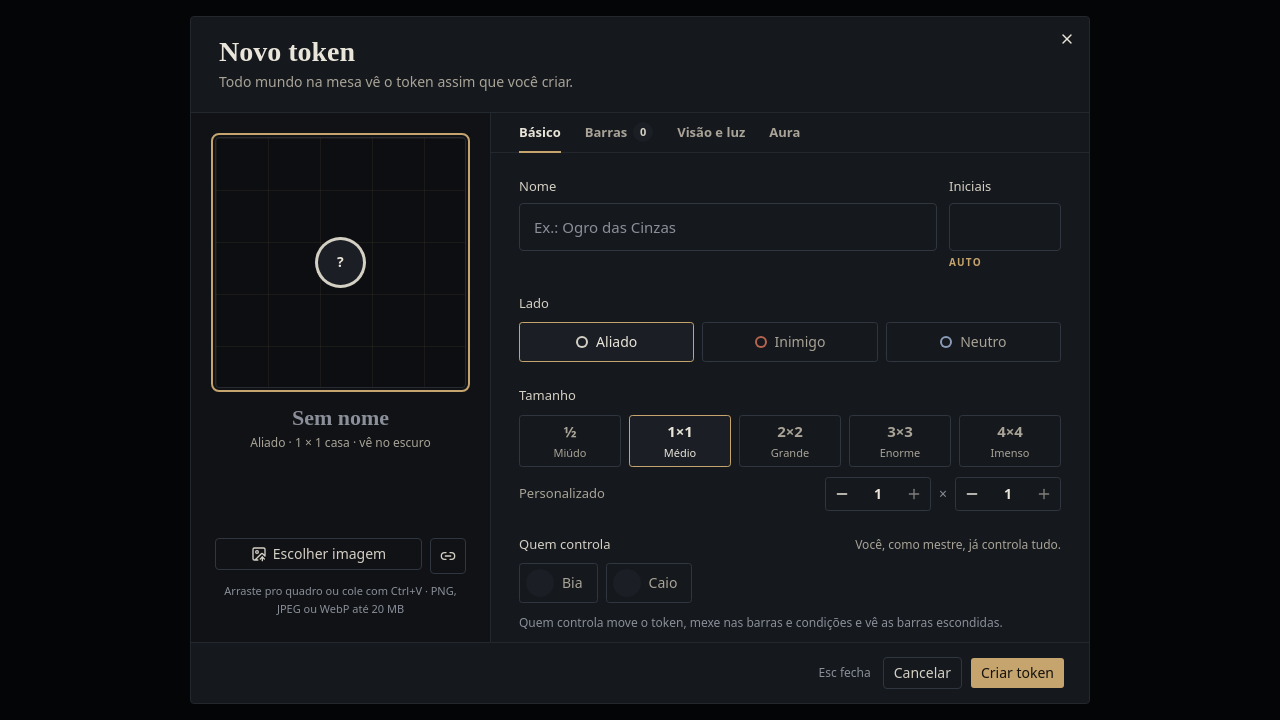
TokenDialog, the shell › going to another tab and back keeps what was typed
The width and height of the screenshot is (1280, 720).
Type "Kael" into the field labelled "Nome".
click(728, 227); type("Kael")  # box x1=519 y1=203 x2=937 y2=251
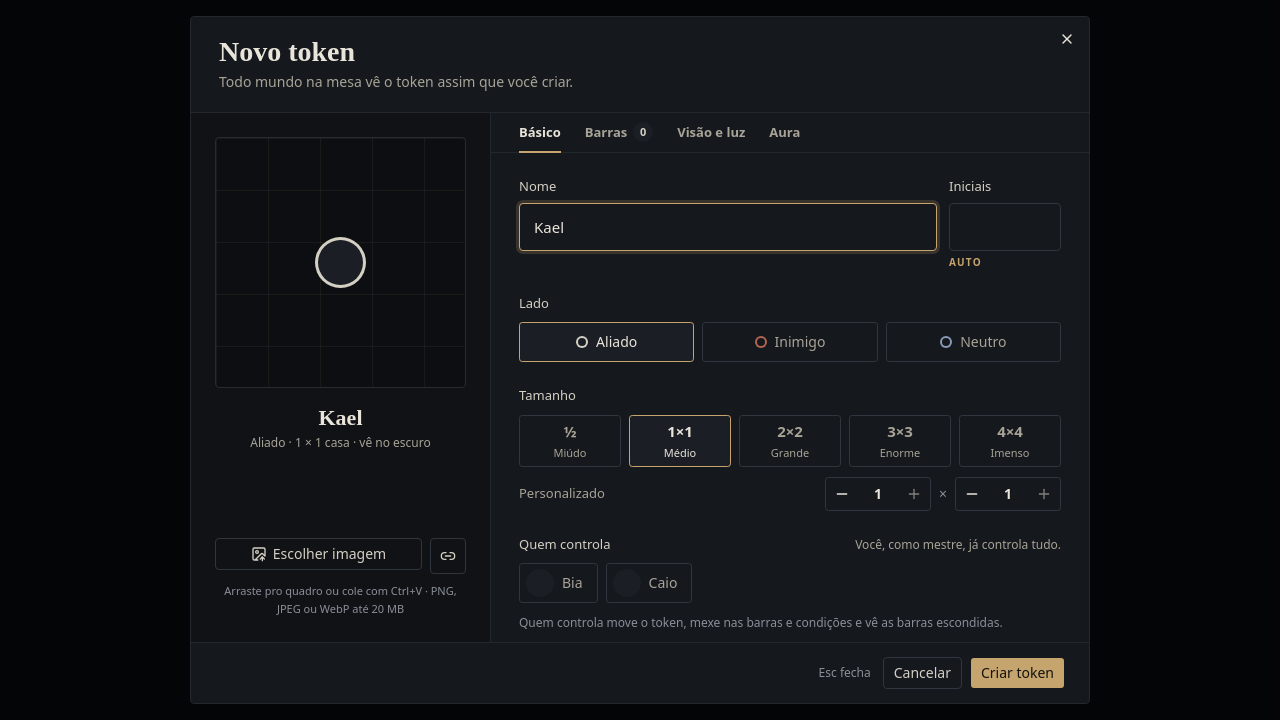
Click the tab "Visão e luz".
click(711, 133)  # box x1=677 y1=113 x2=745 y2=153
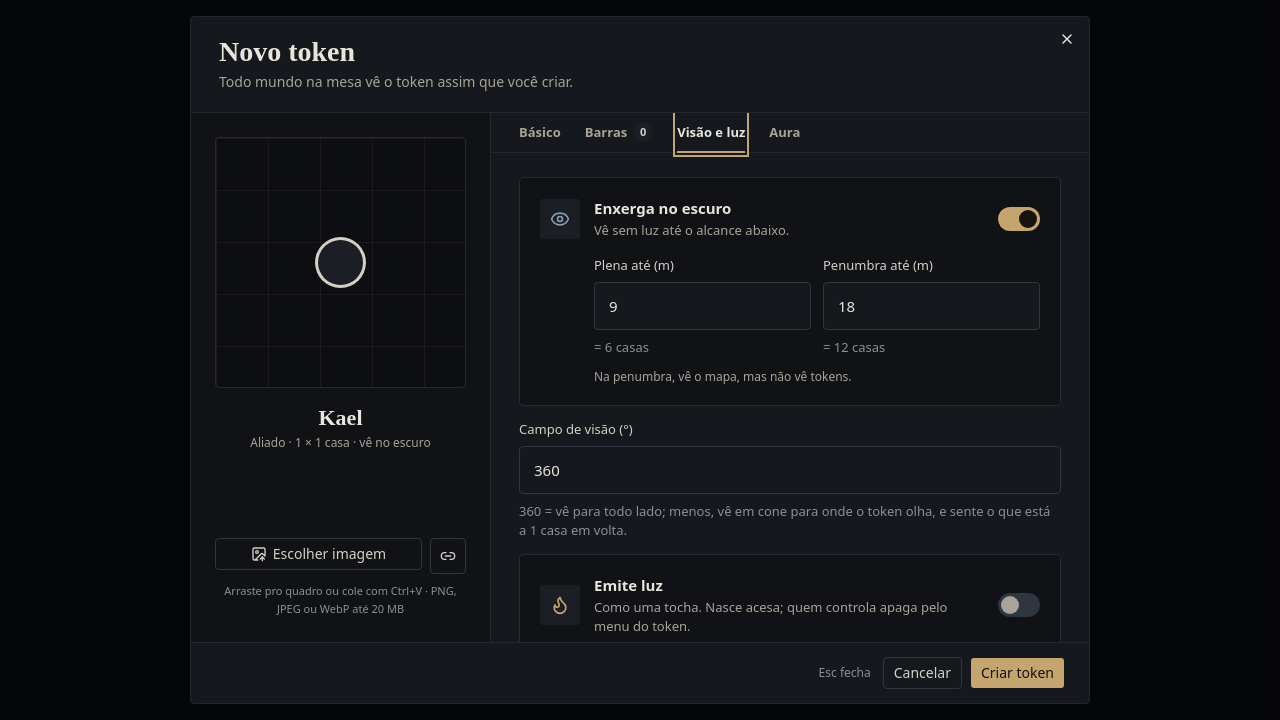
Click the tab "Básico".
click(540, 133)  # box x1=519 y1=113 x2=561 y2=153
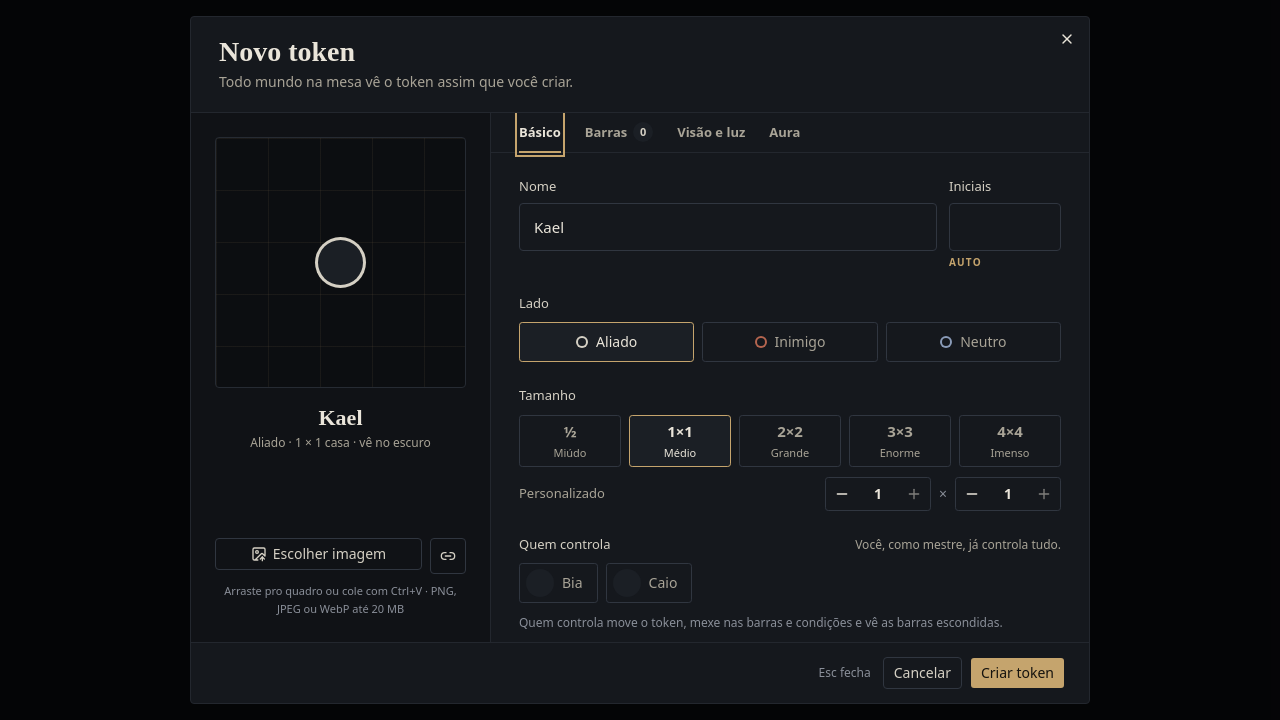
Expected: the field labelled "Nome" holds "Kael", x1=519 y1=203 x2=937 y2=251
